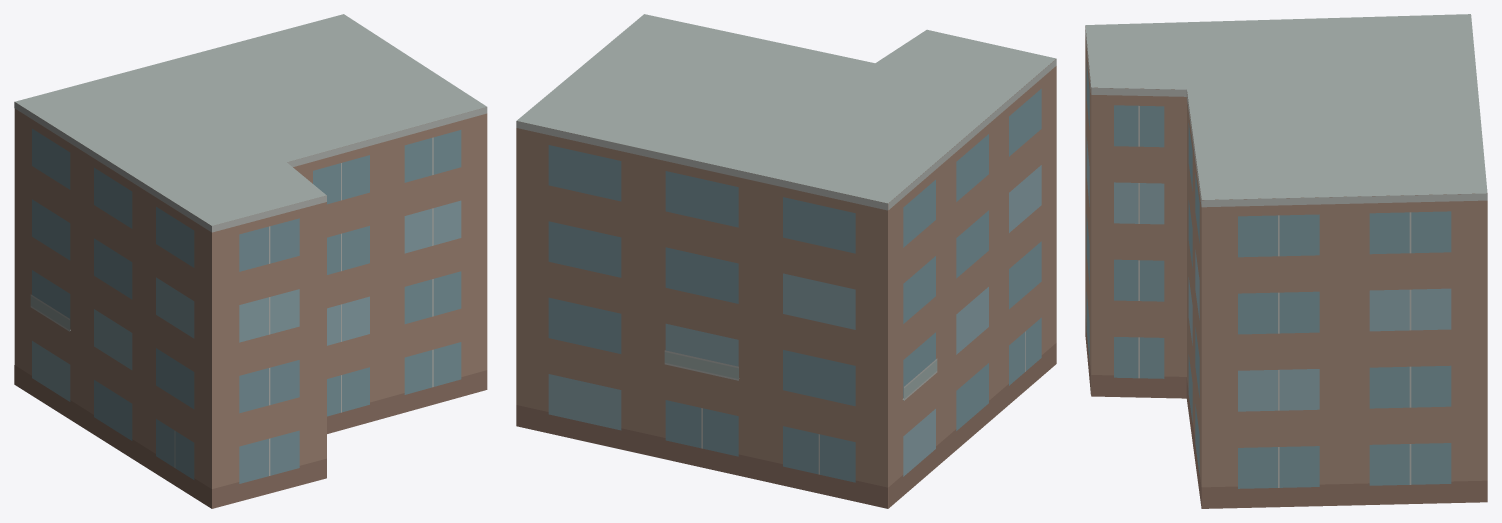
Rendered from survey-upis-32589532.glb.
3 views of the same model, side by side, from view 1: azimuth 30°, elevation 25°; view 2: azimuth 150°, elevation 25°; view 3: azimuth 270°, elevation 25° (orthographic). The views are drawn at different scales.
Visible parts, largest first — view 1: survey-upis-32589532.tmp; view 2: survey-upis-32589532.tmp; view 3: survey-upis-32589532.tmp.
Boxes of the visible parts, x1=… form: survey-upis-32589532.tmp: x1=14, y1=14, x2=487, y2=508; survey-upis-32589532.tmp: x1=516, y1=14, x2=1056, y2=508; survey-upis-32589532.tmp: x1=1085, y1=14, x2=1487, y2=508.
Size of the model in its own units: 13.58 by 10.5 by 12.41.
